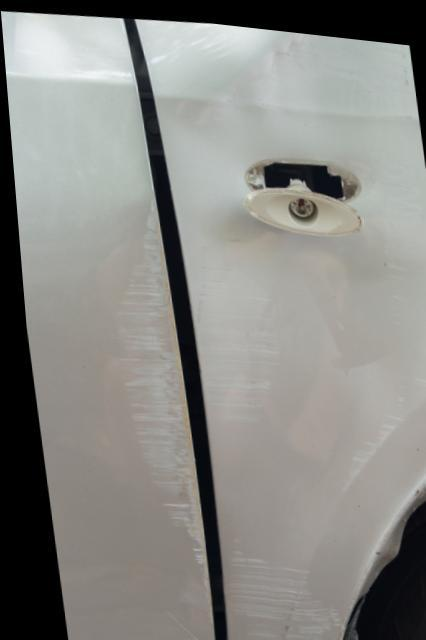dent: (165, 25, 426, 487)
scratch: (107, 190, 202, 598), (188, 245, 275, 435), (222, 533, 328, 640)
